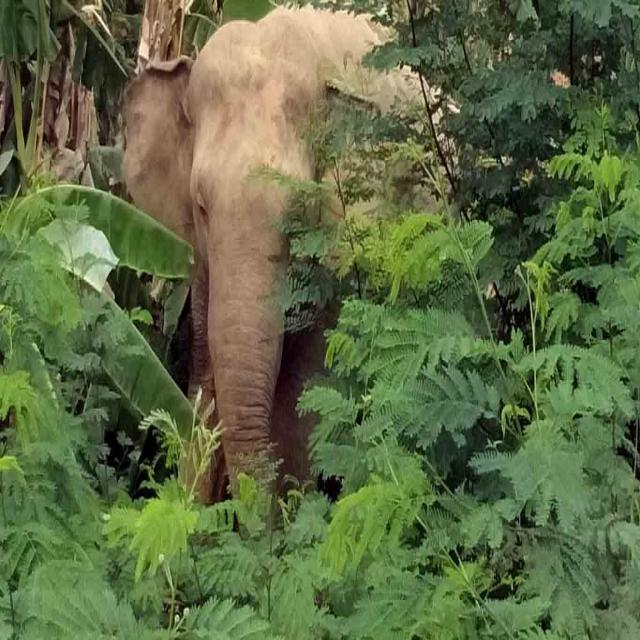Elephant: (100, 5, 493, 580)
